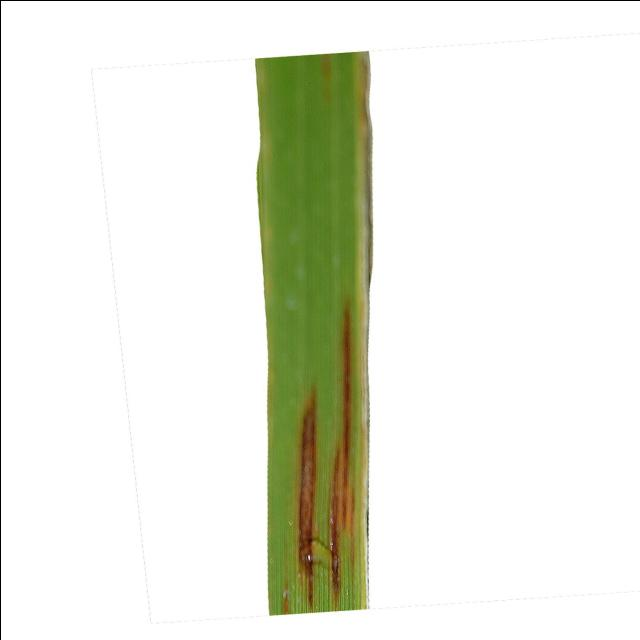Narrow brown: (198, 16, 411, 626)
